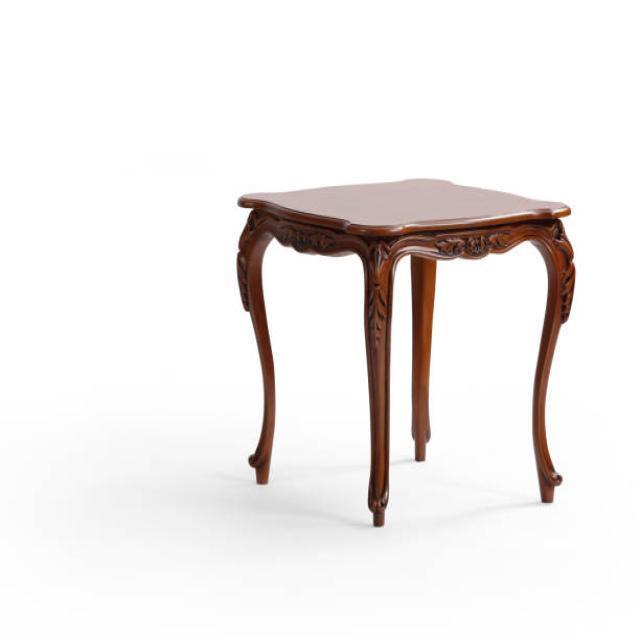table: (234, 177, 575, 528)
